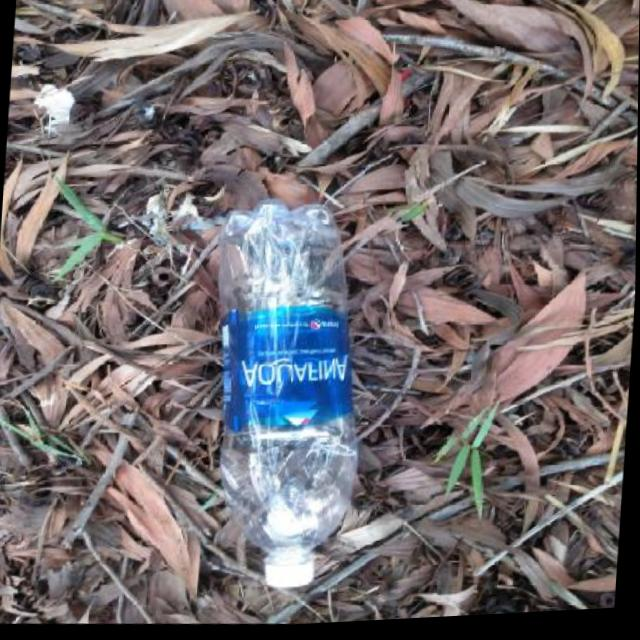plastic: (192, 190, 376, 605)
